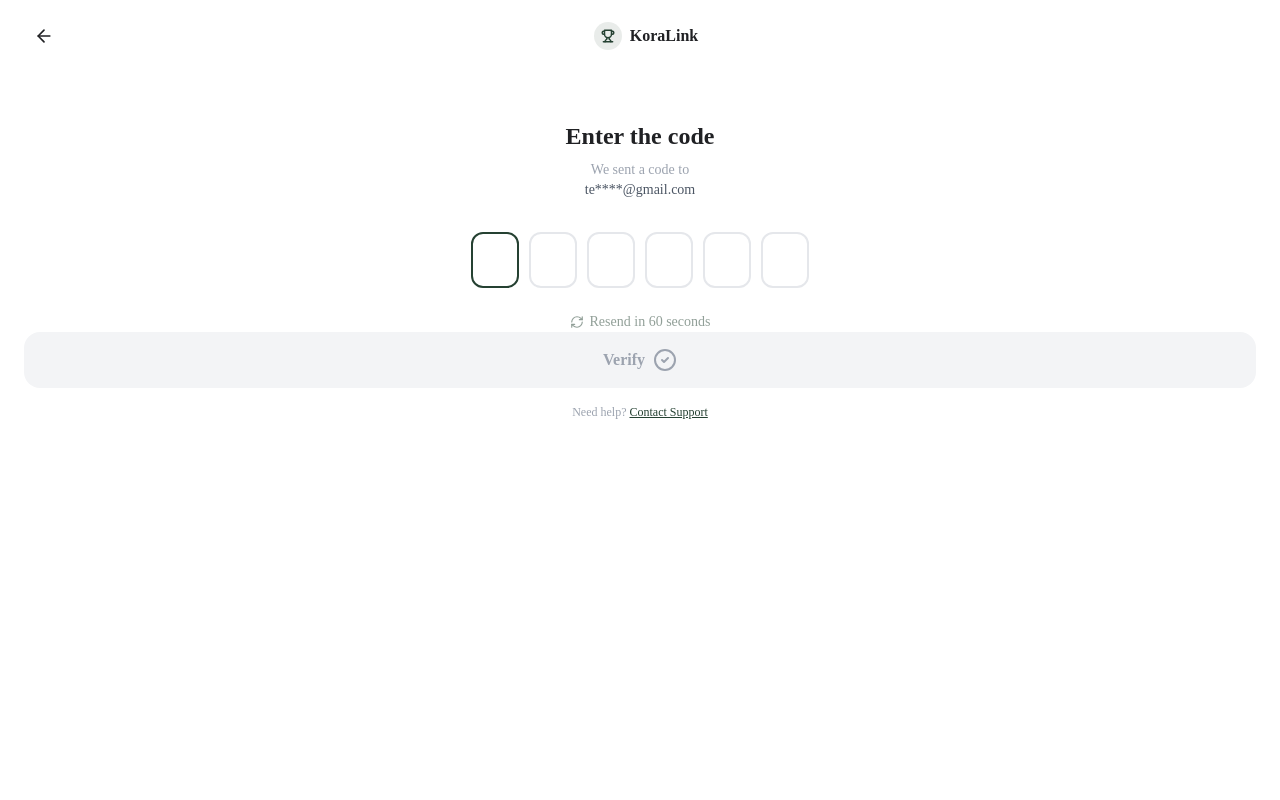
Test: verify page — OTP entry › normalizes Arabic-Indic digits to ASCII in the boxes
Type "٤" into the 1st field at [495, 260], box [471,232,519,288]
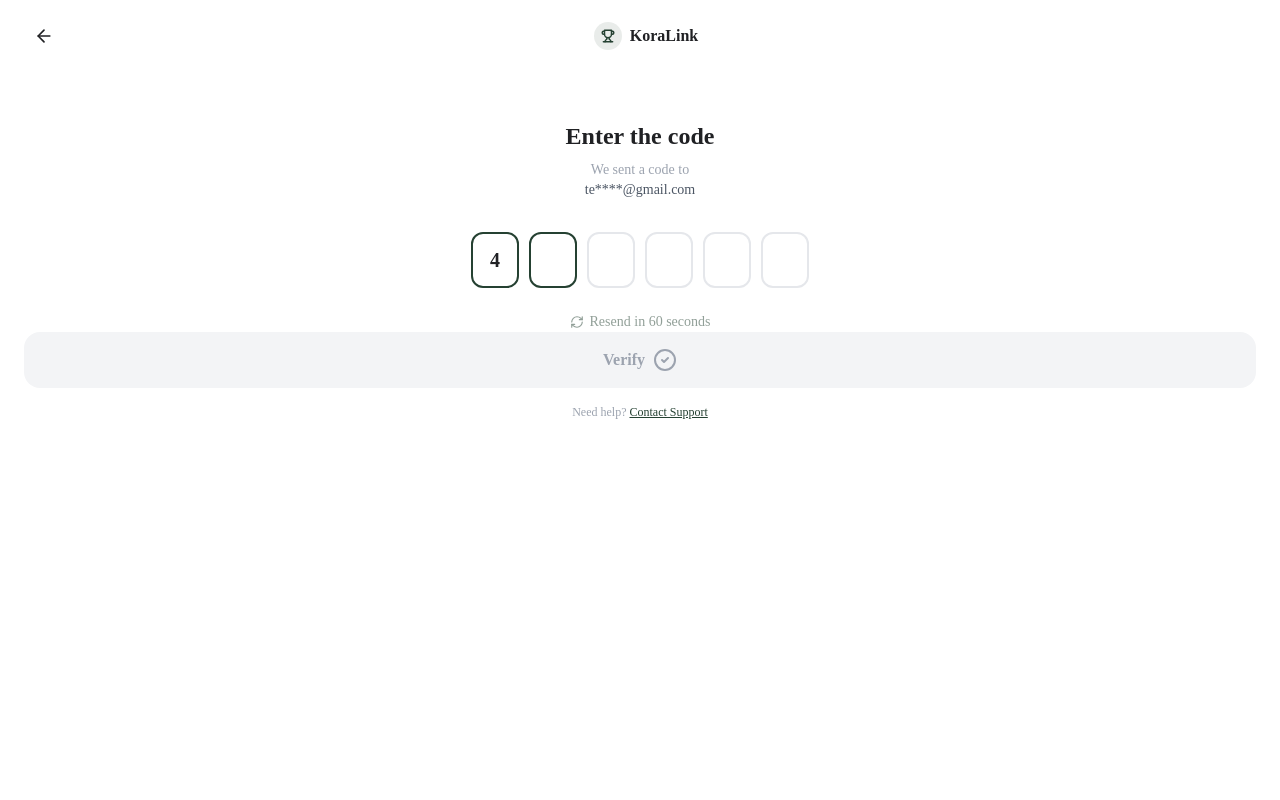
Expected: the 1st field holds "4", [471,232,519,288]
Type "٩" into the 2nd field at [553, 260], box [529,232,577,288]
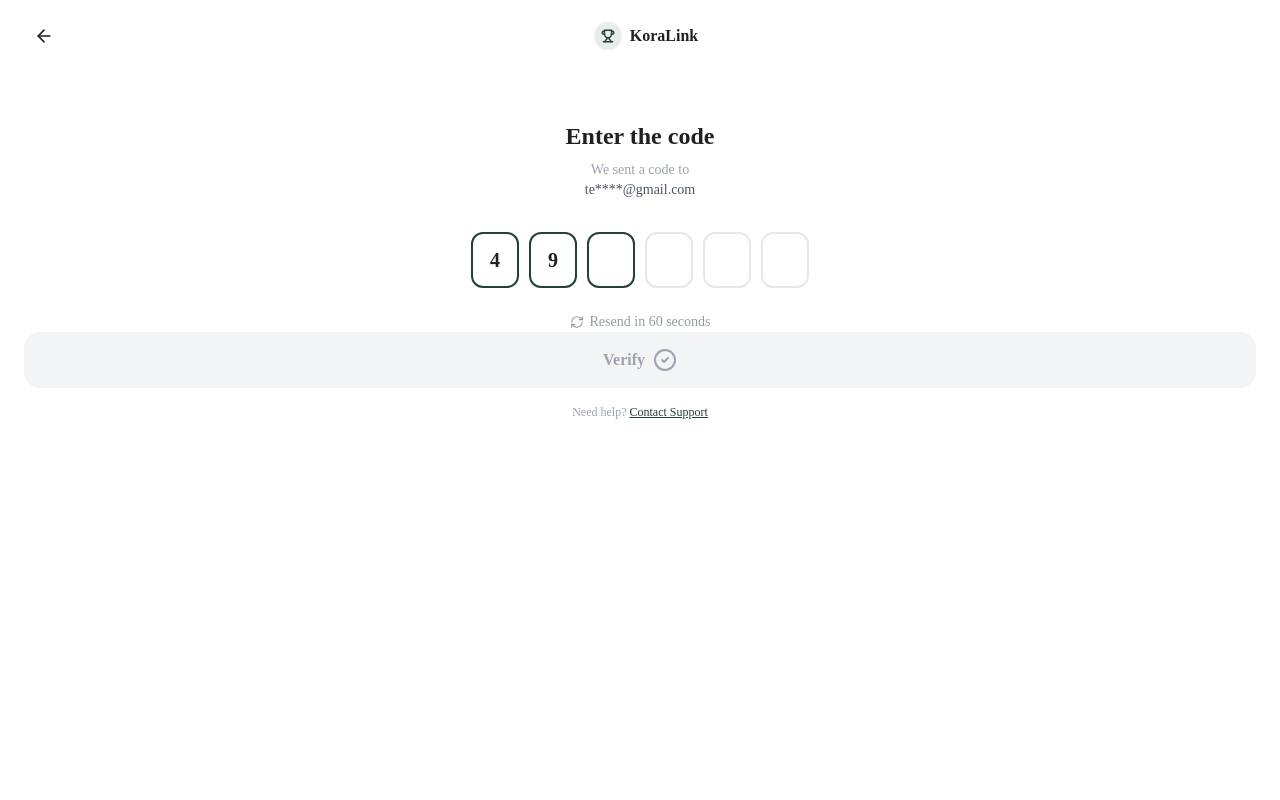
Expected: the 2nd field holds "9", [529,232,577,288]
